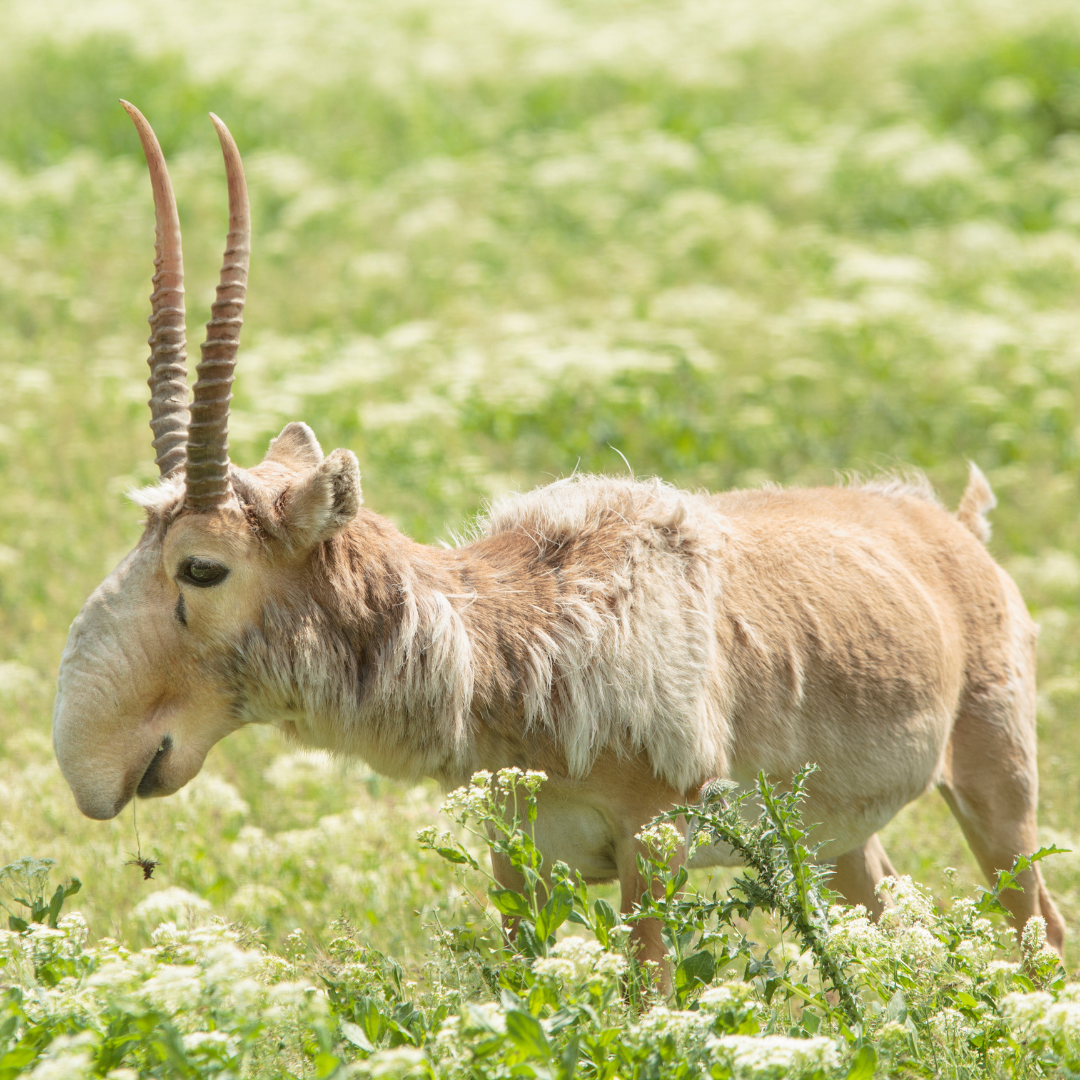saiga: (54, 94, 1080, 993)
